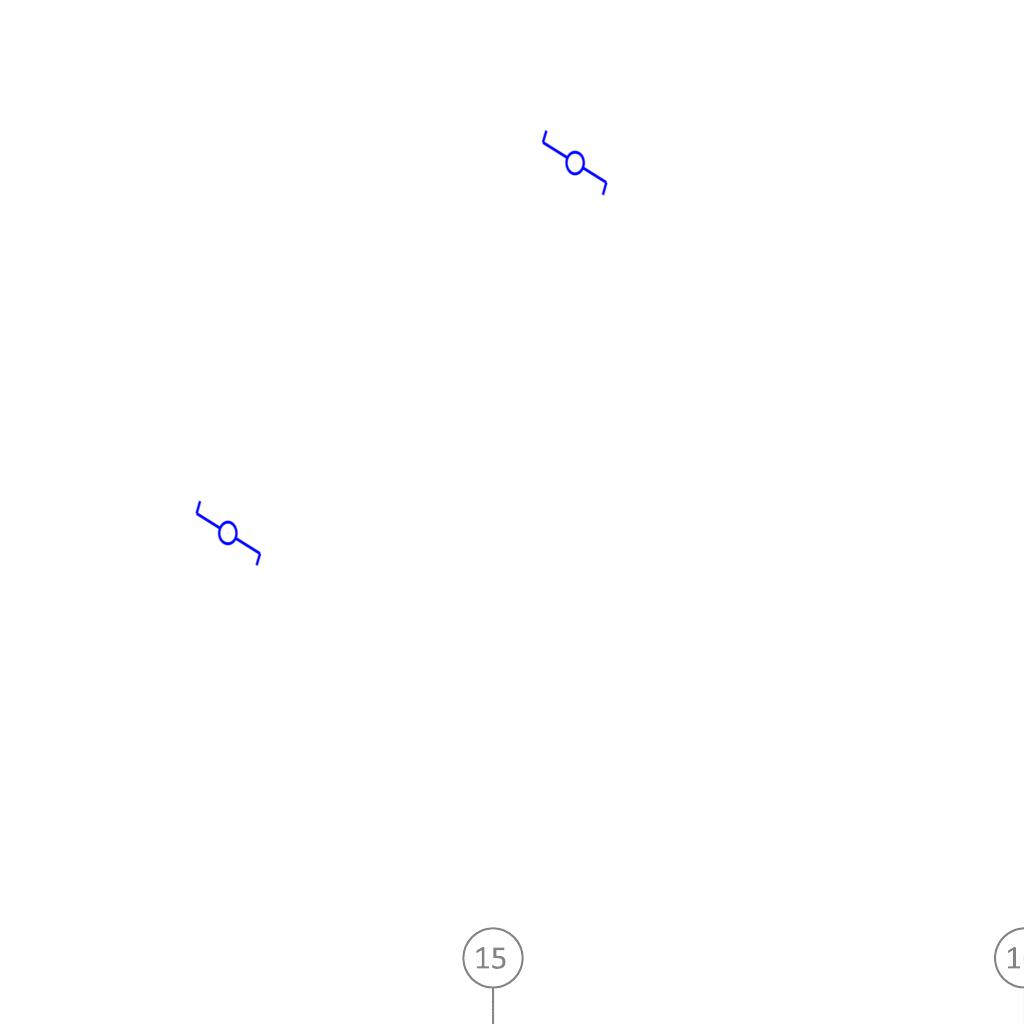Wechselschalter: (538, 128, 610, 206), (193, 490, 265, 568)
